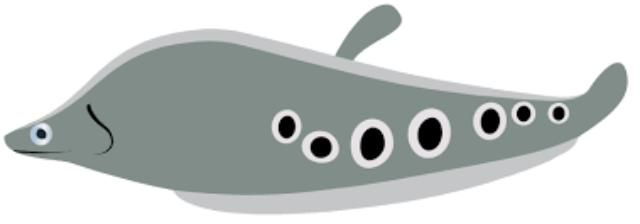Mulut: (2, 116, 72, 180)
Sirip Punggung: (326, 0, 418, 70)
